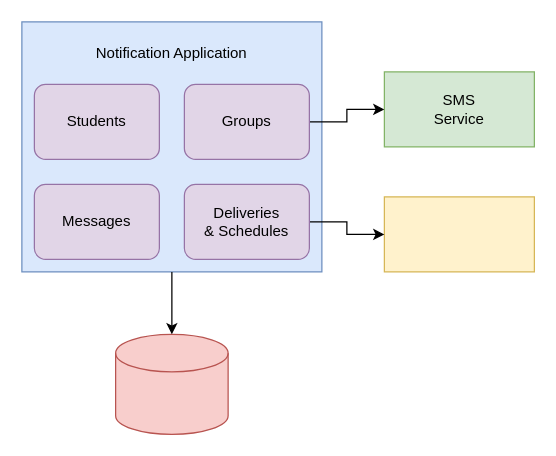
The diagram is 556 pixels wide and 456 high, and some of its shapes have lost their labels. The centre of each missing label's shape, as x and y in pixels:
Database: (171,383)
Email Service: (458,234)
